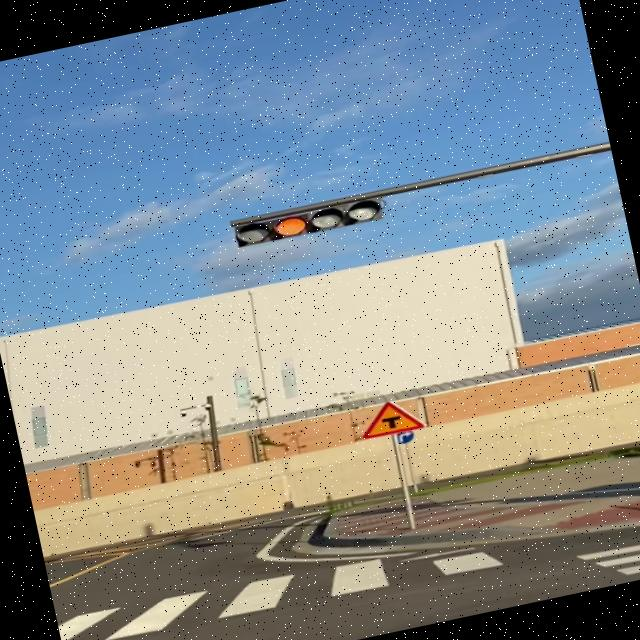yellow_light: (233, 196, 384, 249)
